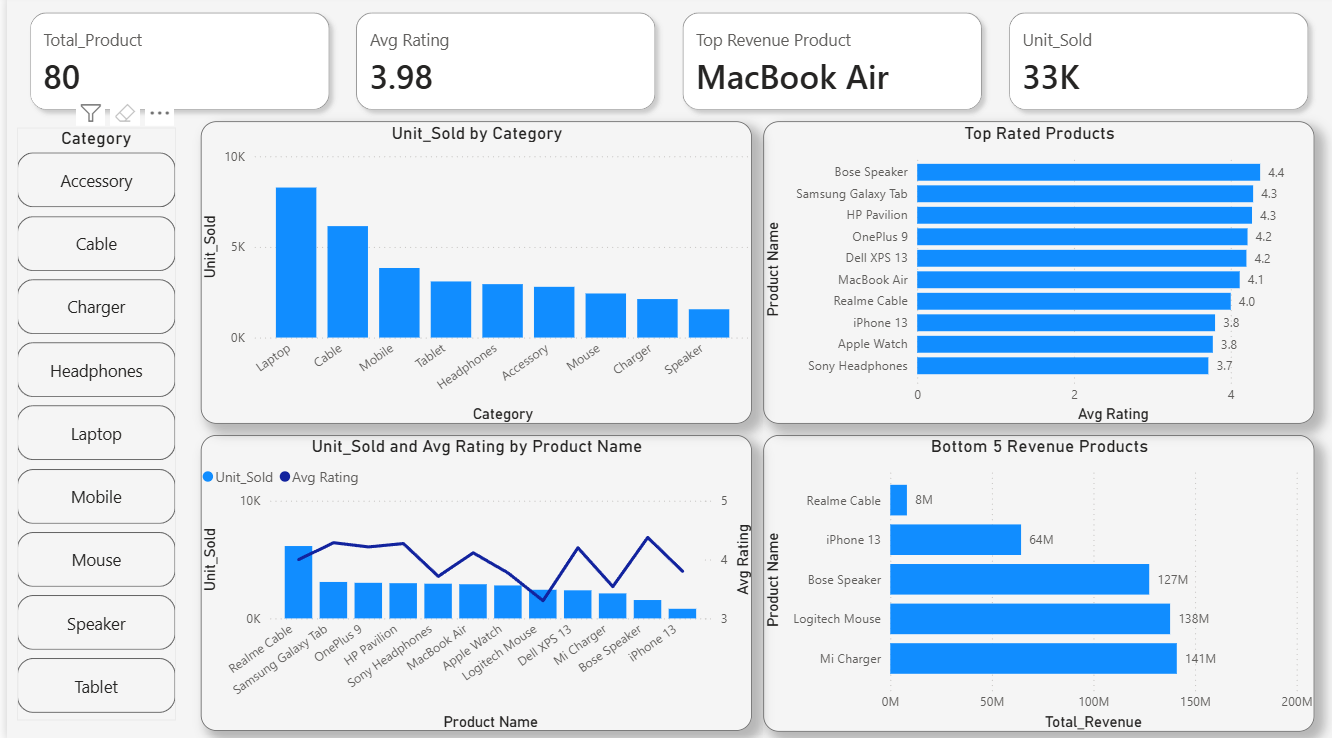

This screenshot's page, from the dashboard's own definition file:
{"tool":"powerbi","page":{"name":"Product Review","canvas":[1280,720],"ordinal":1},"visuals":[{"type":"cardVisual","fields":{"Data":["Product.Total_Product","Product.Avg Rating","Product.Top Revenue Product","Product.Unit_Sold"]},"box":[0,0,1280.3,129],"z":0},{"type":"clusteredColumnChart","fields":{"Y":["Product.Unit_Sold"],"Category":["Product.Category"]},"box":[187,121.9,532,292],"z":1000},{"type":"barChart","title":"Top Rated Products","fields":{"Category":["Product.Product Name"],"Y":["Product.Avg Rating"]},"box":[729.9,121.9,532,292],"z":2000},{"type":"advancedSlicerVisual","fields":{"Values":["Product.Category"]},"box":[9.7,127.9,153.2,571.9],"z":3000},{"type":"lineClusteredColumnComboChart","fields":{"Category":["Product.Product Name"],"Y":["Product.Unit_Sold"],"Y2":["Product.Avg Rating"]},"box":[187,424.7,532,285.9],"z":4000},{"type":"clusteredBarChart","title":"Bottom 5 Revenue Products","fields":{"Category":["Product.Product Name"],"Y":["Orders.Total_Revenue"]},"box":[730,425,532,286],"z":5000}]}

Visuals, with their boxes in screenshot pixels (x1, y1, x2, y2), scaled from the page's 1280x720 canvas onto the 1332x738 screenshot:
cardVisual - Product.Total_Product x Product.Avg Rating: box(0, 0, 1331, 132)
clusteredColumnChart - Product.Unit_Sold x Product.Category: box(195, 125, 748, 424)
"Top Rated Products" barChart: box(760, 125, 1313, 424)
advancedSlicerVisual - Product.Category: box(10, 131, 170, 717)
lineClusteredColumnComboChart - Product.Product Name x Product.Unit_Sold: box(195, 435, 748, 728)
"Bottom 5 Revenue Products" clusteredBarChart: box(760, 436, 1313, 729)
